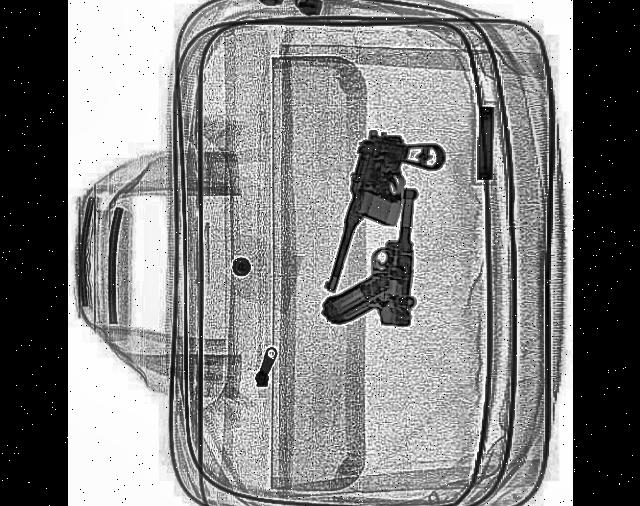Gun: (316, 109, 446, 329), (320, 185, 420, 333)
